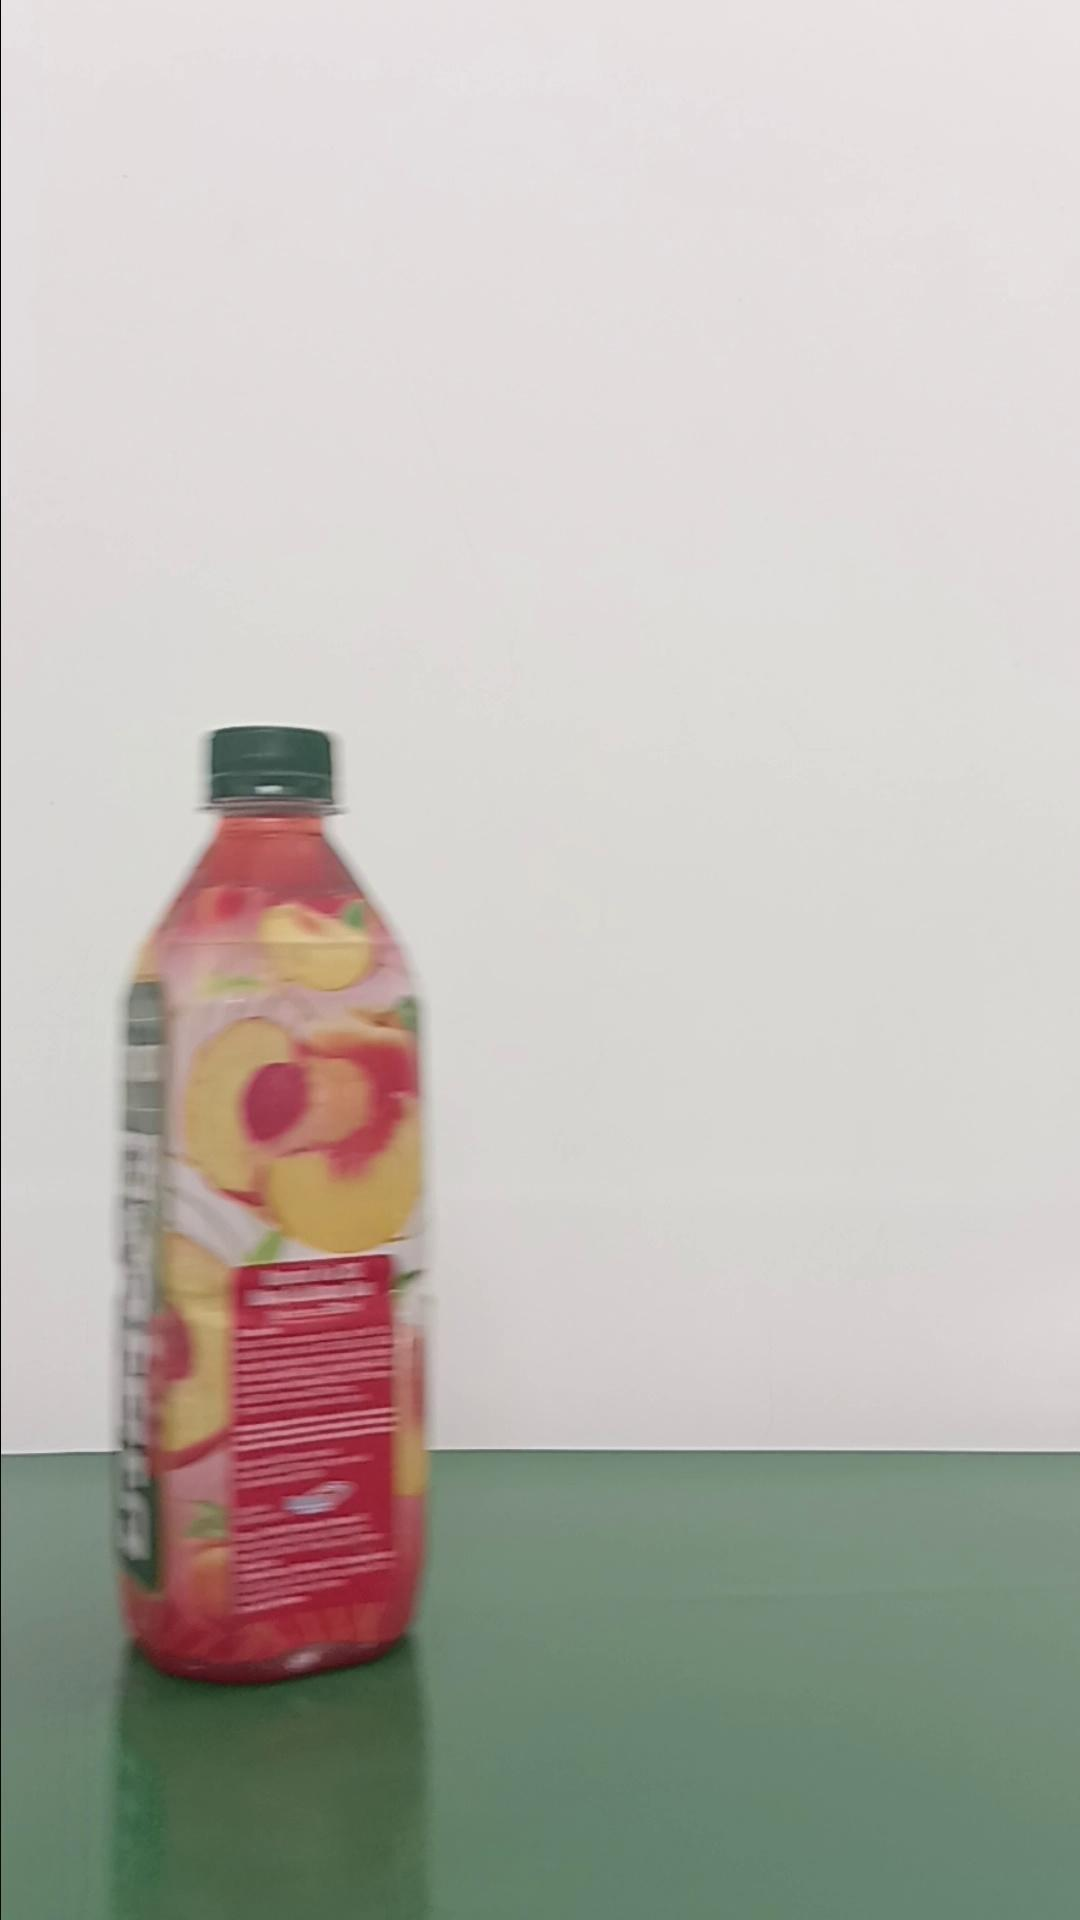khong loi: (109, 723, 435, 1685)
